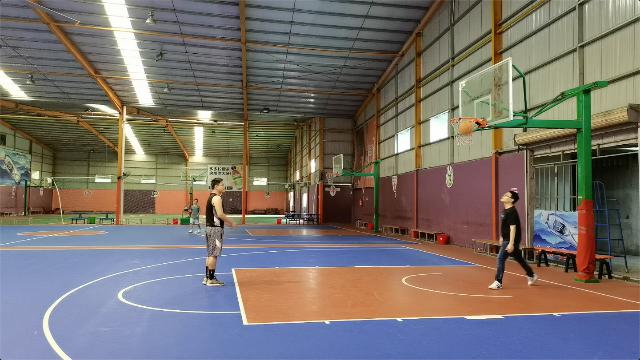ball: (459, 121, 473, 133)
basket: (449, 116, 477, 145)
